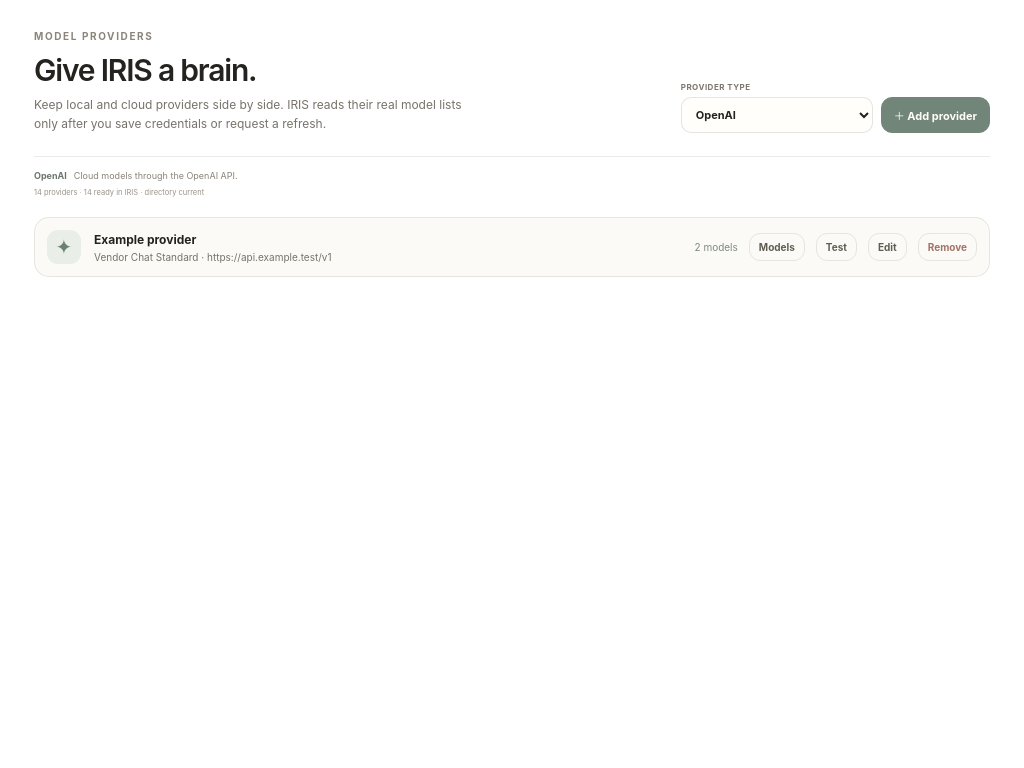
Test case: Models surface model compatibility › preselects the chat model and keeps the image model visible but not selected
Click the button "Edit" at point(887, 247), box top-left (868, 233), bottom-right (907, 261)
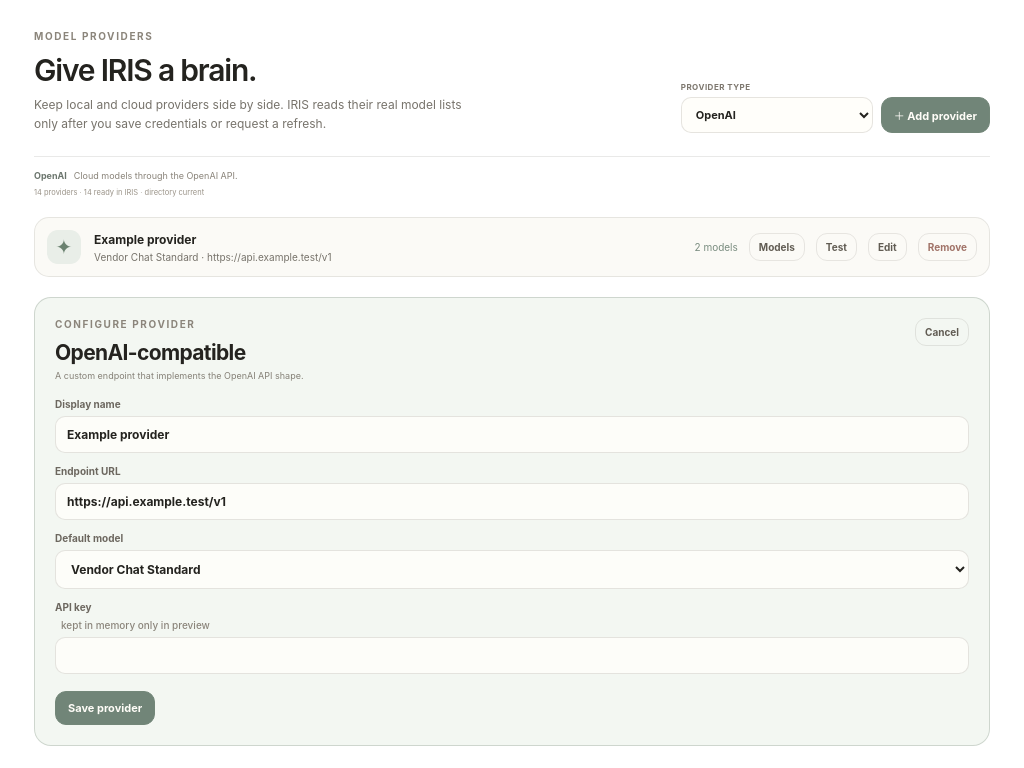
Check: the dropdown labelled "Default model" shows "Vendor Chat Standard", box top-left (55, 550), bottom-right (969, 589)
